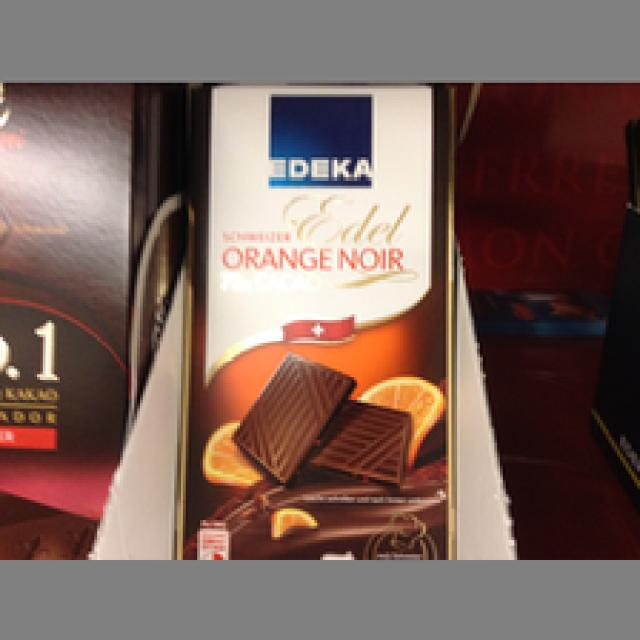groceries: (183, 83, 454, 557)
